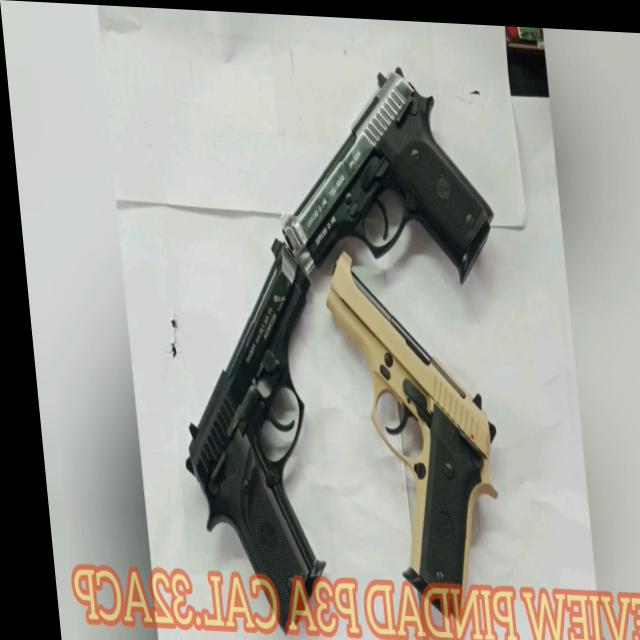handgun: (310, 237, 504, 578), (152, 227, 332, 573), (263, 32, 500, 285)
